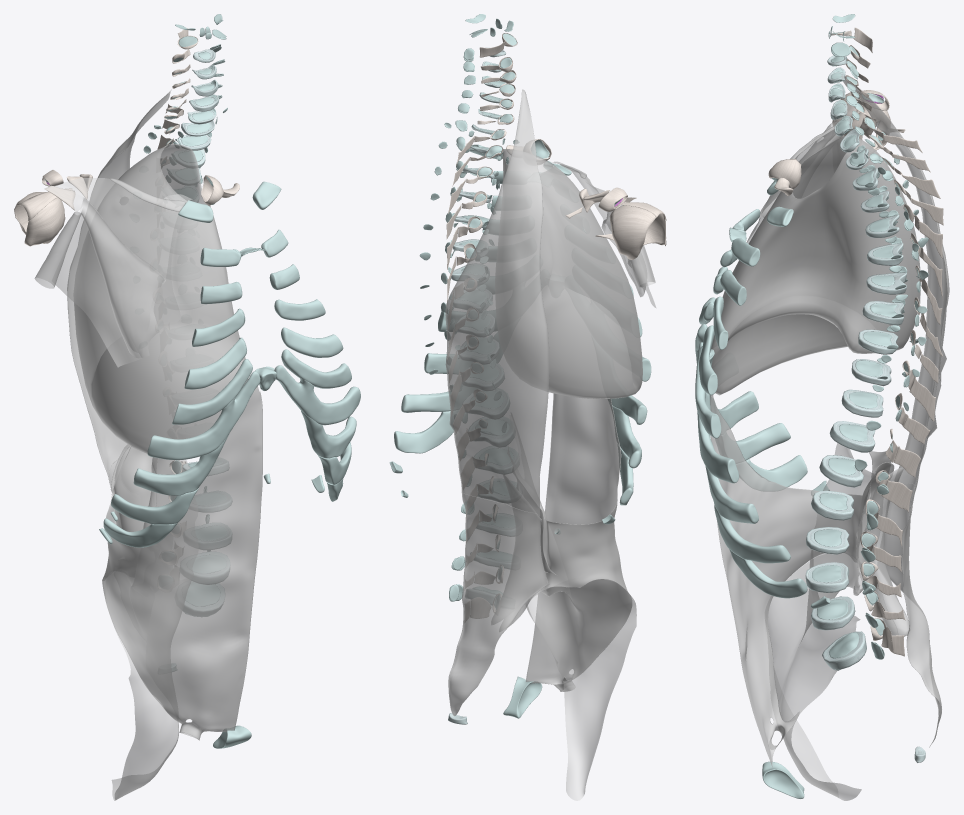
File: open3d-muscles-thorax-abdomen-connective-01.glb
3 views of the same model, side by side, from view 1: azimuth 30°, elevation 25°; view 2: azimuth 150°, elevation 25°; view 3: azimuth 270°, elevation 25° (orthographic). The views are drawn at different scales.
Visible parts, largest first — view 1: O3D_2bc01ccf458cc6, O3D_065b7154ef69ee, O3D_68066de05dbc5b, O3D_7fee61555e6da2, O3D_6cb18da3c70c9e, O3D_617339906ac9e8, O3D_c564c66f201924, O3D_f1bf81ab0f87f5, O3D_4e499c6684837b, O3D_eaa92679891f79; view 2: O3D_617339906ac9e8, O3D_2bc01ccf458cc6, O3D_065b7154ef69ee, O3D_6cb18da3c70c9e, O3D_9bb3d1a8d5dd77, O3D_68066de05dbc5b, O3D_c564c66f201924, O3D_45748f67b1e376, O3D_eb5971f5ae20d9, O3D_b69cb22d491c4f, O3D_4e499c6684837b, O3D_7fee61555e6da2 (+3 smaller); view 3: O3D_2bc01ccf458cc6, O3D_065b7154ef69ee, O3D_68066de05dbc5b, O3D_6cb18da3c70c9e, O3D_c564c66f201924, O3D_b69cb22d491c4f, O3D_617339906ac9e8, O3D_9bb3d1a8d5dd77, O3D_7fee61555e6da2, O3D_eb5971f5ae20d9, O3D_45748f67b1e376, O3D_25845367a5ed85 (+20 smaller).
Part boxes in pixels (left/top/right/bottom): O3D_2bc01ccf458cc6: left=73, top=143, right=248, bottom=453; O3D_065b7154ef69ee: left=102, top=386, right=262, bottom=740; O3D_68066de05dbc5b: left=99, top=181, right=360, bottom=547; O3D_7fee61555e6da2: left=34, top=178, right=192, bottom=367; O3D_6cb18da3c70c9e: left=106, top=457, right=190, bottom=800; O3D_617339906ac9e8: left=67, top=89, right=171, bottom=482; O3D_c564c66f201924: left=168, top=49, right=232, bottom=616; O3D_f1bf81ab0f87f5: left=113, top=446, right=154, bottom=559; O3D_4e499c6684837b: left=14, top=192, right=65, bottom=246; O3D_eaa92679891f79: left=185, top=550, right=220, bottom=606; O3D_617339906ac9e8: left=445, top=89, right=549, bottom=514; O3D_2bc01ccf458cc6: left=495, top=149, right=642, bottom=398; O3D_065b7154ef69ee: left=499, top=393, right=631, bottom=691; O3D_6cb18da3c70c9e: left=511, top=414, right=636, bottom=800; O3D_9bb3d1a8d5dd77: left=448, top=492, right=547, bottom=716; O3D_68066de05dbc5b: left=389, top=144, right=651, bottom=534; O3D_c564c66f201924: left=451, top=47, right=517, bottom=604; O3D_45748f67b1e376: left=491, top=472, right=549, bottom=624; O3D_eb5971f5ae20d9: left=454, top=41, right=505, bottom=618; O3D_b69cb22d491c4f: left=446, top=136, right=478, bottom=622; O3D_4e499c6684837b: left=609, top=204, right=666, bottom=259; O3D_7fee61555e6da2: left=552, top=161, right=655, bottom=307; O3D_2bc01ccf458cc6: left=711, top=137, right=920, bottom=395; O3D_065b7154ef69ee: left=710, top=395, right=897, bottom=767; O3D_68066de05dbc5b: left=695, top=181, right=873, bottom=608; O3D_6cb18da3c70c9e: left=765, top=443, right=874, bottom=800; O3D_c564c66f201924: left=805, top=55, right=906, bottom=669; O3D_b69cb22d491c4f: left=873, top=135, right=943, bottom=656; O3D_617339906ac9e8: left=843, top=75, right=949, bottom=511; O3D_9bb3d1a8d5dd77: left=884, top=483, right=941, bottom=747; O3D_7fee61555e6da2: left=746, top=101, right=858, bottom=243; O3D_eb5971f5ae20d9: left=853, top=27, right=927, bottom=652; O3D_45748f67b1e376: left=863, top=467, right=909, bottom=636; O3D_25845367a5ed85: left=831, top=30, right=921, bottom=640.
Size of the model in its own units: 0.3154 by 0.776 by 0.2175.
7 materials, 3 textured.
